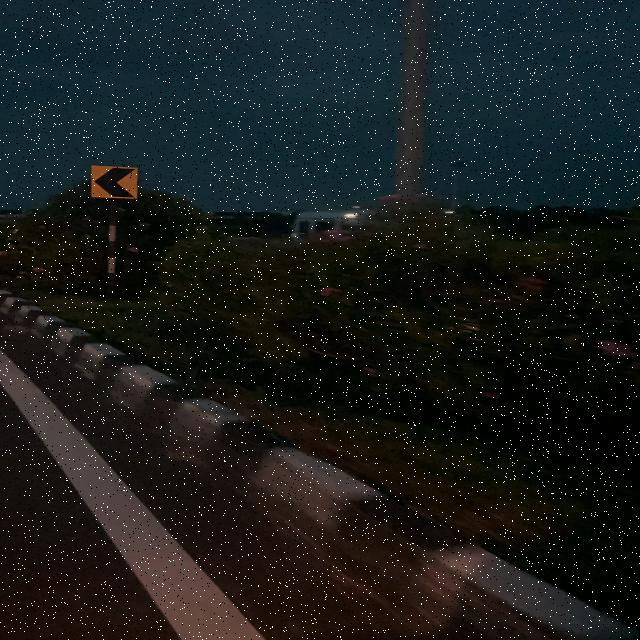chevron_left: (87, 163, 141, 204)
